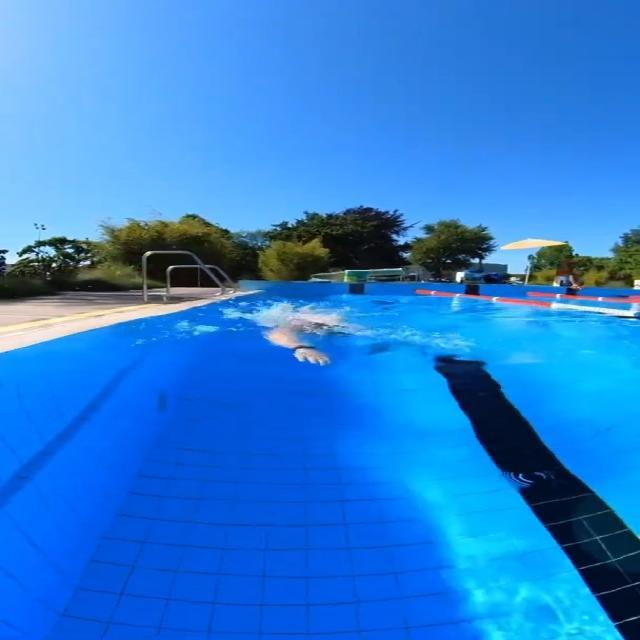Swimming: (262, 310, 366, 373)
